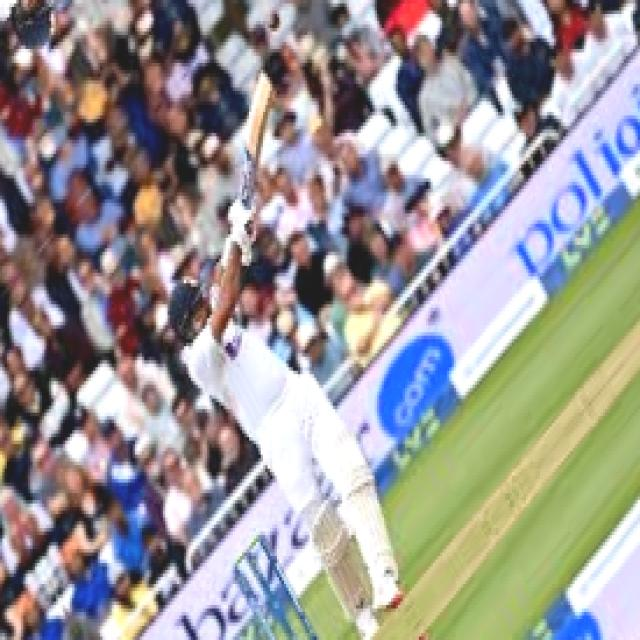toe: (259, 66, 276, 108)
